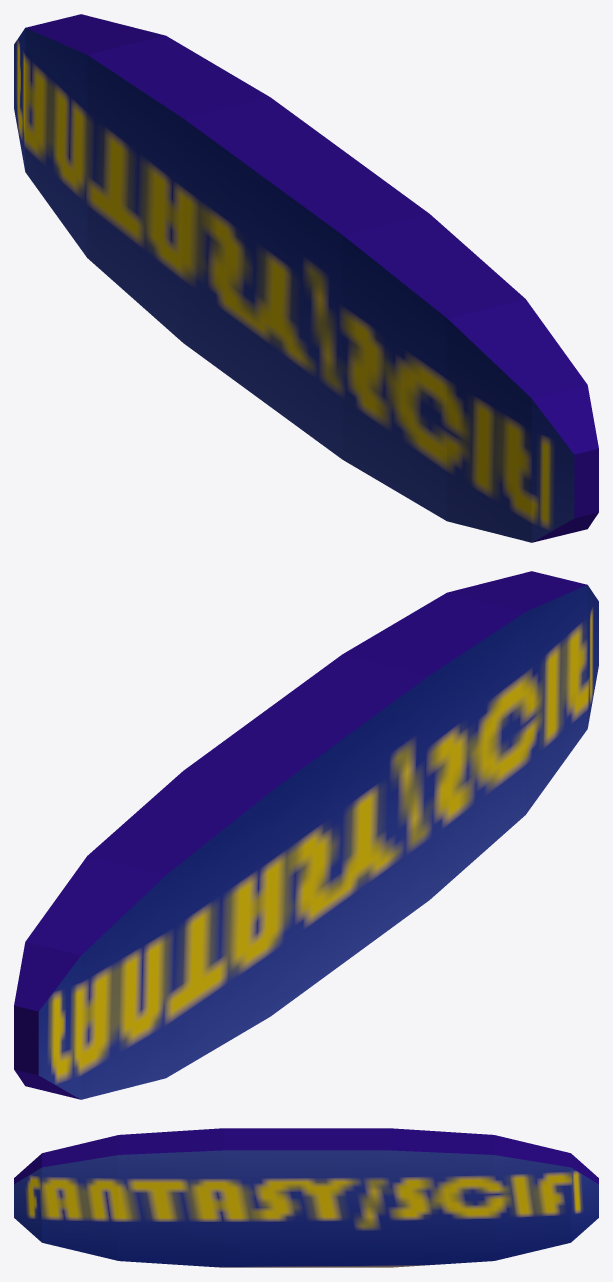
The model's file is SyFy_sign.obj.
3 renders of one model, top to bottom at view 1: azimuth 30°, elevation 25°; view 2: azimuth 150°, elevation 25°; view 3: azimuth 270°, elevation 25°, orthographic. The views are drawn at different scales.
Visible parts, largest first — view 1: SYFY_Sign_Cube.039; view 2: SYFY_Sign_Cube.039; view 3: SYFY_Sign_Cube.039.
Boxes of the visible parts, x1=… form: SYFY_Sign_Cube.039: x1=14, y1=14, x2=598, y2=542; SYFY_Sign_Cube.039: x1=14, y1=571, x2=598, y2=1099; SYFY_Sign_Cube.039: x1=14, y1=1128, x2=598, y2=1267.
Bounding box in the file's own units: 0.1795 × 0.4425 × 2.
